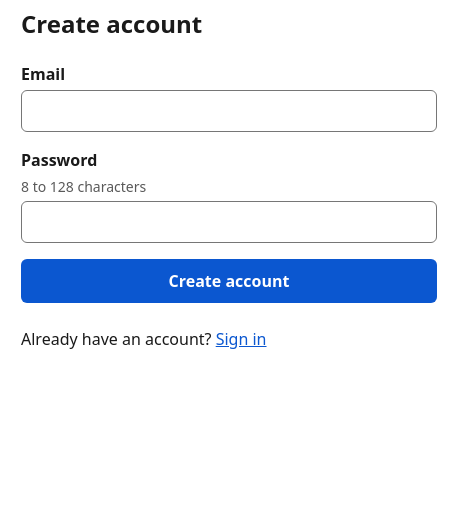
Scenario: RegisterPage › validation before sending › rejects a password that is too short
Step 1. Type "a@example.com" into the field labelled "Email" → (229, 111), box [21,90,437,132]
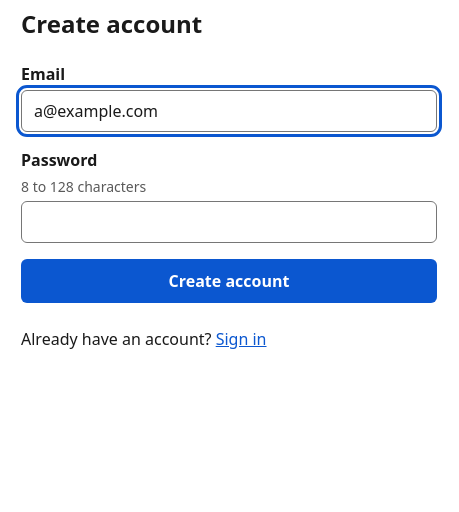
Step 2. Type "short" into the password field labelled "Password" → (229, 222), box [21,201,437,243]
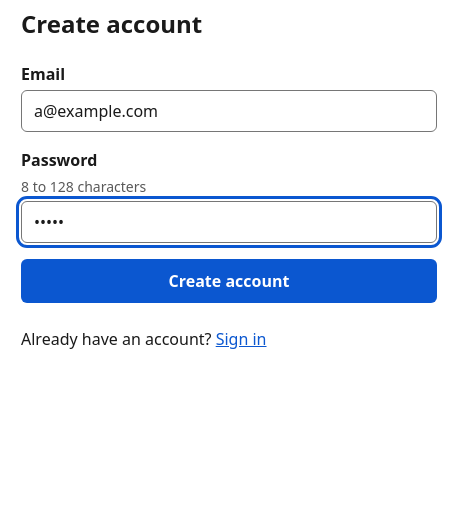
Step 3. Click the button "Create account" → (229, 281), box [21,259,437,303]
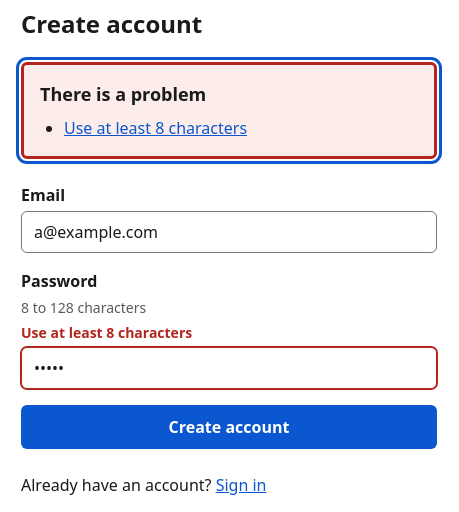
Expected: the link "Use at least 8 characters" is shown, [64,117,247,139]
